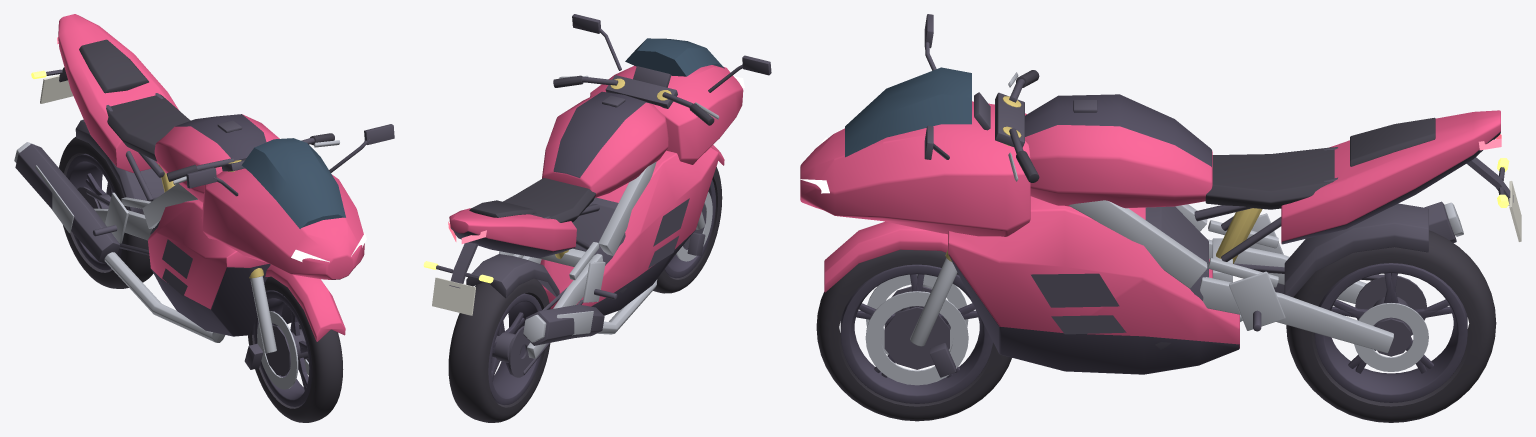
File: bike.glb
3 views of the same model, side by side, from view 1: azimuth 30°, elevation 25°; view 2: azimuth 150°, elevation 25°; view 3: azimuth 270°, elevation 25° (orthographic). The views are drawn at different scales.
Visible parts, largest first — view 1: bike_body, wheel_f, wheel_r; view 2: bike_body, wheel_r, wheel_f; view 3: bike_body, wheel_r, wheel_f.
Boxes of the visible parts, <box> form: bike_body: <box>14,14,394,369</box>; wheel_f: <box>248,276,343,422</box>; wheel_r: <box>59,137,153,288</box>; bike_body: <box>423,14,771,374</box>; wheel_r: <box>448,278,550,422</box>; wheel_f: <box>653,167,722,293</box>; bike_body: <box>800,14,1521,377</box>; wheel_r: <box>1286,230,1496,422</box>; wheel_f: <box>816,249,1011,421</box>.
Bounding box in the file's own units: 0.89 × 1.1 × 2.1.
